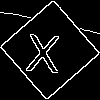X: (25, 25, 62, 73)
